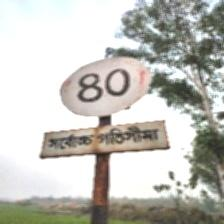Speed-limit: (42, 54, 166, 161)
